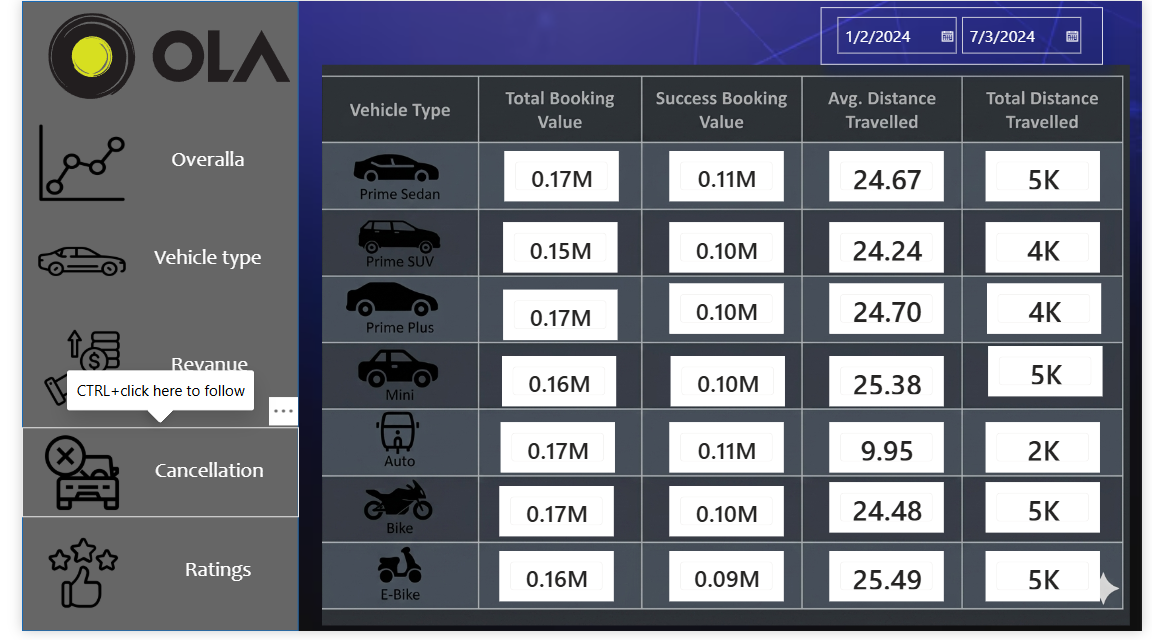

What the dashboard file says about the page in this screenshot:
{"tool":"powerbi","page":{"name":"Vehicle type","canvas":[1280,720],"ordinal":1},"visuals":[{"type":"shape","box":[0,0,316.1,720.2],"z":0},{"type":"image","box":[10,10,317,107],"z":1000},{"type":"image","box":[18.1,139.9,100.1,89.3],"z":2000},{"type":"textbox","box":[130.3,160.5,165.3,49.5],"z":3000},{"type":"image","box":[18.1,252.1,100.1,89.3],"z":4000},{"type":"image","box":[18.1,374,100.1,89.3],"z":5000},{"type":"image","box":[18.1,494.6,100.1,89.3],"z":6000},{"type":"image","box":[19.3,608,100.1,89.3],"z":7000},{"type":"textbox","box":[130.3,272.7,165.3,49.5],"z":8000},{"type":"textbox","box":[131.5,394.5,165.3,49.5],"z":9000},{"type":"textbox","box":[131.5,515.2,165.3,49.5],"z":10000},{"type":"textbox","box":[141.2,628.6,165.3,49.5],"z":11000},{"type":"actionButton","box":[0,252.5,317,102.9],"z":12000},{"type":"actionButton","box":[0,133.1,317,102.9],"z":13000},{"type":"actionButton","box":[0,360.9,317,102.9],"z":14000},{"type":"actionButton","box":[0,487.1,317,102.9],"z":15000},{"type":"actionButton","box":[0,601,317,102.9],"z":16000},{"type":"image","box":[343.1,72.7,923.5,640.8],"z":17000},{"type":"cardVisual","fields":{"Data":["Sum(Sheet1.Booking_Value)"]},"box":[551.6,171.5,130.4,57.6],"z":18000},{"type":"cardVisual","fields":{"Data":["Sum(Sheet1.Booking_Value)"]},"box":[550.3,252.5,130.4,57.6],"z":19000},{"type":"cardVisual","fields":{"Data":["Sum(Sheet1.Booking_Value)"]},"box":[550.3,330.7,130.4,57.6],"z":20000},{"type":"cardVisual","fields":{"Data":["Sum(Sheet1.Booking_Value)"]},"box":[548.9,406.2,130.4,57.6],"z":21000},{"type":"cardVisual","fields":{"Data":["Sum(Sheet1.Booking_Value)"]},"box":[547.5,481.6,130.4,57.6],"z":22000},{"type":"cardVisual","fields":{"Data":["Sum(Sheet1.Booking_Value)"]},"box":[546.1,554.4,130.4,57.6],"z":23000},{"type":"cardVisual","fields":{"Data":["Sum(Sheet1.Booking_Value)"]},"box":[546.1,628.5,130.4,57.6],"z":24000},{"type":"cardVisual","fields":{"Data":["Sum(Sheet1.Booking_Value)"]},"box":[739.6,171.5,130.4,57.6],"z":25000},{"type":"cardVisual","fields":{"Data":["Sum(Sheet1.Booking_Value)"]},"box":[739.6,252.5,130.4,57.6],"z":26000},{"type":"cardVisual","fields":{"Data":["Sum(Sheet1.Booking_Value)"]},"box":[739.6,322.5,130.4,57.6],"z":27000},{"type":"cardVisual","fields":{"Data":["Sum(Sheet1.Booking_Value)"]},"box":[741,406.2,130.4,57.6],"z":28000},{"type":"cardVisual","fields":{"Data":["Sum(Sheet1.Booking_Value)"]},"box":[739.6,481.6,130.4,57.6],"z":29000},{"type":"cardVisual","fields":{"Data":["Sum(Sheet1.Booking_Value)"]},"box":[739.6,554.4,130.4,57.6],"z":30000},{"type":"cardVisual","fields":{"Data":["Sum(Sheet1.Booking_Value)"]},"box":[739.6,628.5,130.4,57.6],"z":31000},{"type":"cardVisual","fields":{"Data":["Avg(Sheet1.Ride_Distance)"]},"box":[923.5,252.5,130.4,57.6],"z":32000},{"type":"cardVisual","fields":{"Data":["Avg(Sheet1.Ride_Distance)"]},"box":[923.5,322.5,130.4,57.6],"z":33000},{"type":"cardVisual","fields":{"Data":["Avg(Sheet1.Ride_Distance)"]},"box":[923.5,406.2,130.4,57.6],"z":34000},{"type":"cardVisual","fields":{"Data":["Avg(Sheet1.Ride_Distance)"]},"box":[923.5,481.6,130.4,57.6],"z":35000},{"type":"cardVisual","fields":{"Data":["Avg(Sheet1.Ride_Distance)"]},"box":[923.5,550.3,130.4,57.6],"z":36000},{"type":"cardVisual","fields":{"Data":["Avg(Sheet1.Ride_Distance)"]},"box":[923.5,628.5,130.4,57.6],"z":37000},{"type":"cardVisual","fields":{"Data":["Avg(Sheet1.Ride_Distance)"]},"box":[923.5,171.5,130.4,57.6],"z":38000},{"type":"cardVisual","fields":{"Data":["Sum(Sheet1.Ride_Distance)"]},"box":[1101.9,171.5,130.4,57.6],"z":39000},{"type":"cardVisual","fields":{"Data":["Sum(Sheet1.Ride_Distance)"]},"box":[1101.9,252.5,130.4,57.6],"z":40000},{"type":"cardVisual","fields":{"Data":["Sum(Sheet1.Ride_Distance)"]},"box":[1103.3,322.5,130.4,57.6],"z":41000},{"type":"cardVisual","fields":{"Data":["Sum(Sheet1.Ride_Distance)"]},"box":[1104.6,393.8,130.4,57.6],"z":42000},{"type":"cardVisual","fields":{"Data":["Sum(Sheet1.Ride_Distance)"]},"box":[1101.9,481.6,130.4,57.6],"z":43000},{"type":"cardVisual","fields":{"Data":["Sum(Sheet1.Ride_Distance)"]},"box":[1101.9,550.3,130.4,57.6],"z":44000},{"type":"cardVisual","fields":{"Data":["Sum(Sheet1.Ride_Distance)"]},"box":[1101.9,628.5,130.4,57.6],"z":45000},{"type":"slicer","title":"Date","fields":{"Values":["Sheet1.Date"]},"box":[912.5,6.9,322.5,65.9],"z":46000}]}

Visuals, with their boxes in screenshot pixels (x1, y1, x2, y2), scaled from the page's 1280x720 canvas onto the 1152x640 screenshot:
shape: (0,0,284,639)
image: (9,9,294,104)
image: (16,124,106,204)
textbox: (117,143,266,187)
image: (16,224,106,303)
image: (16,332,106,412)
image: (16,440,106,519)
image: (17,540,107,620)
textbox: (117,242,266,286)
textbox: (118,351,267,395)
textbox: (118,458,267,502)
textbox: (127,559,276,603)
actionButton: (0,224,285,316)
actionButton: (0,118,285,210)
actionButton: (0,321,285,412)
actionButton: (0,433,285,524)
actionButton: (0,534,285,626)
image: (309,65,1140,634)
cardVisual - Sum(Sheet1.Booking_Value): (496,152,614,204)
cardVisual - Sum(Sheet1.Booking_Value): (495,224,613,276)
cardVisual - Sum(Sheet1.Booking_Value): (495,294,613,345)
cardVisual - Sum(Sheet1.Booking_Value): (494,361,611,412)
cardVisual - Sum(Sheet1.Booking_Value): (493,428,610,479)
cardVisual - Sum(Sheet1.Booking_Value): (491,493,609,544)
cardVisual - Sum(Sheet1.Booking_Value): (491,559,609,610)
cardVisual - Sum(Sheet1.Booking_Value): (666,152,783,204)
cardVisual - Sum(Sheet1.Booking_Value): (666,224,783,276)
cardVisual - Sum(Sheet1.Booking_Value): (666,287,783,338)
cardVisual - Sum(Sheet1.Booking_Value): (667,361,784,412)
cardVisual - Sum(Sheet1.Booking_Value): (666,428,783,479)
cardVisual - Sum(Sheet1.Booking_Value): (666,493,783,544)
cardVisual - Sum(Sheet1.Booking_Value): (666,559,783,610)
cardVisual - Avg(Sheet1.Ride_Distance): (831,224,949,276)
cardVisual - Avg(Sheet1.Ride_Distance): (831,287,949,338)
cardVisual - Avg(Sheet1.Ride_Distance): (831,361,949,412)
cardVisual - Avg(Sheet1.Ride_Distance): (831,428,949,479)
cardVisual - Avg(Sheet1.Ride_Distance): (831,489,949,540)
cardVisual - Avg(Sheet1.Ride_Distance): (831,559,949,610)
cardVisual - Avg(Sheet1.Ride_Distance): (831,152,949,204)
cardVisual - Sum(Sheet1.Ride_Distance): (992,152,1109,204)
cardVisual - Sum(Sheet1.Ride_Distance): (992,224,1109,276)
cardVisual - Sum(Sheet1.Ride_Distance): (993,287,1110,338)
cardVisual - Sum(Sheet1.Ride_Distance): (994,350,1112,401)
cardVisual - Sum(Sheet1.Ride_Distance): (992,428,1109,479)
cardVisual - Sum(Sheet1.Ride_Distance): (992,489,1109,540)
cardVisual - Sum(Sheet1.Ride_Distance): (992,559,1109,610)
"Date" slicer: (821,6,1112,65)
